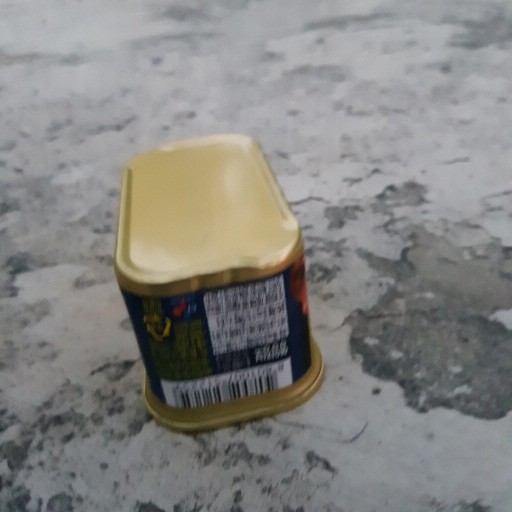Metal_2: (108, 132, 330, 433)
